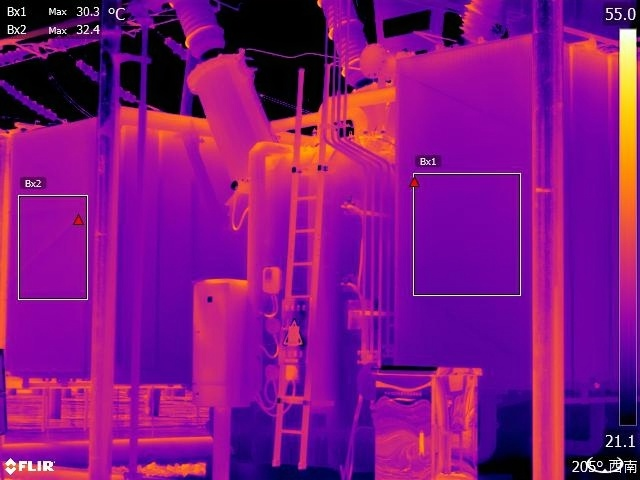insulator: (75, 53, 140, 105), (1, 74, 64, 123), (161, 31, 196, 68)
transformer: (396, 40, 619, 368), (1, 104, 229, 392)
tube: (318, 1, 385, 83), (166, 1, 247, 63), (460, 1, 507, 41)
